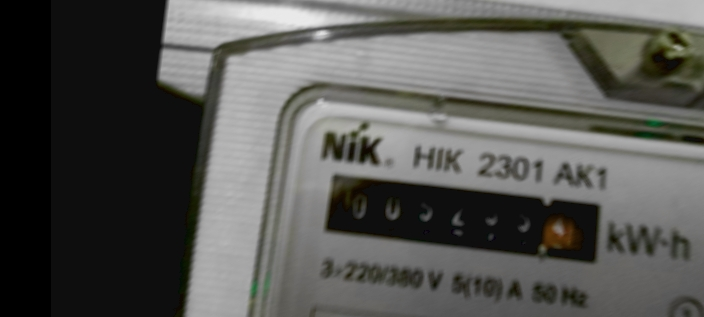0: (382, 189, 406, 224), (350, 189, 371, 222)
2: (447, 194, 473, 230)
3: (480, 196, 507, 232)
4: (548, 205, 574, 243)
5: (513, 199, 539, 238), (416, 191, 439, 226)
screen: (308, 155, 618, 279)
